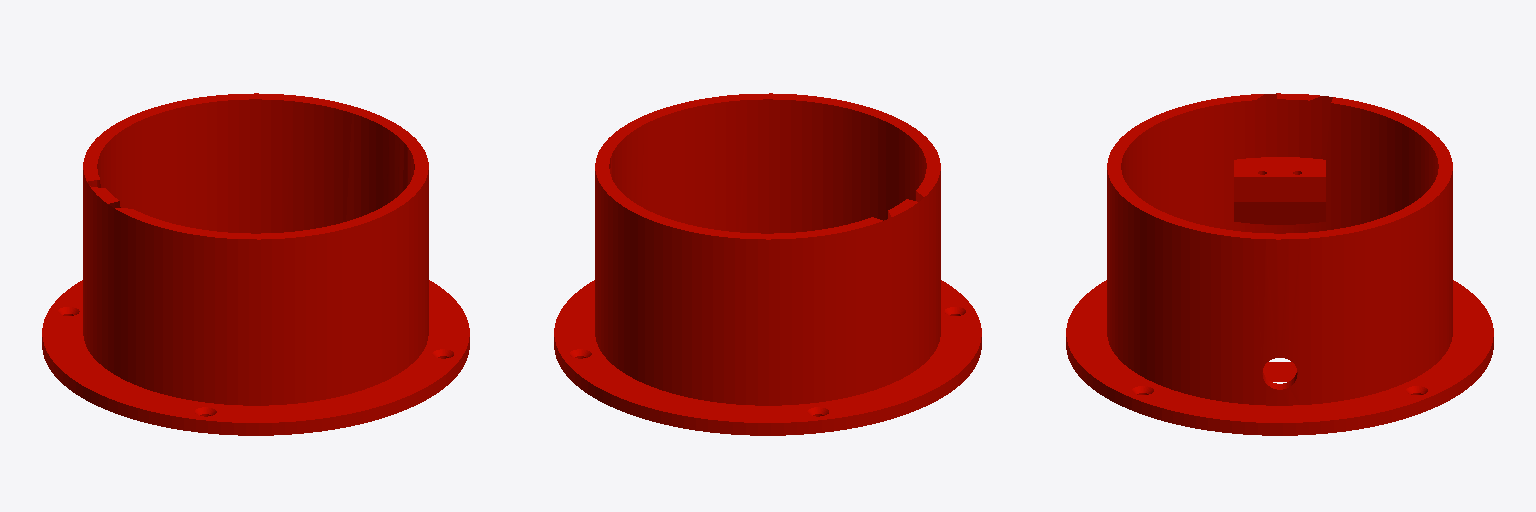
Rendered from podstawka.obj.
3 views of the same model, side by side, from view 1: azimuth 30°, elevation 25°; view 2: azimuth 150°, elevation 25°; view 3: azimuth 270°, elevation 25° (orthographic).
Bounding box in the file's own units: 0.7274 × 0.336 × 0.7275.